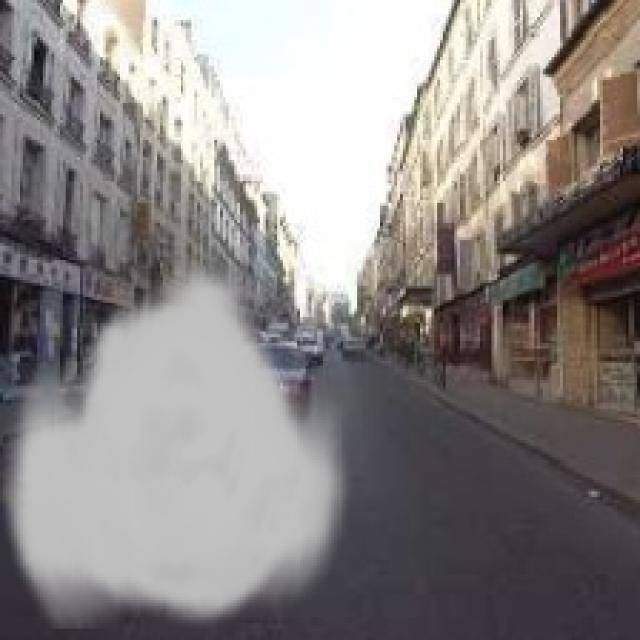smoke: (0, 260, 357, 629)
